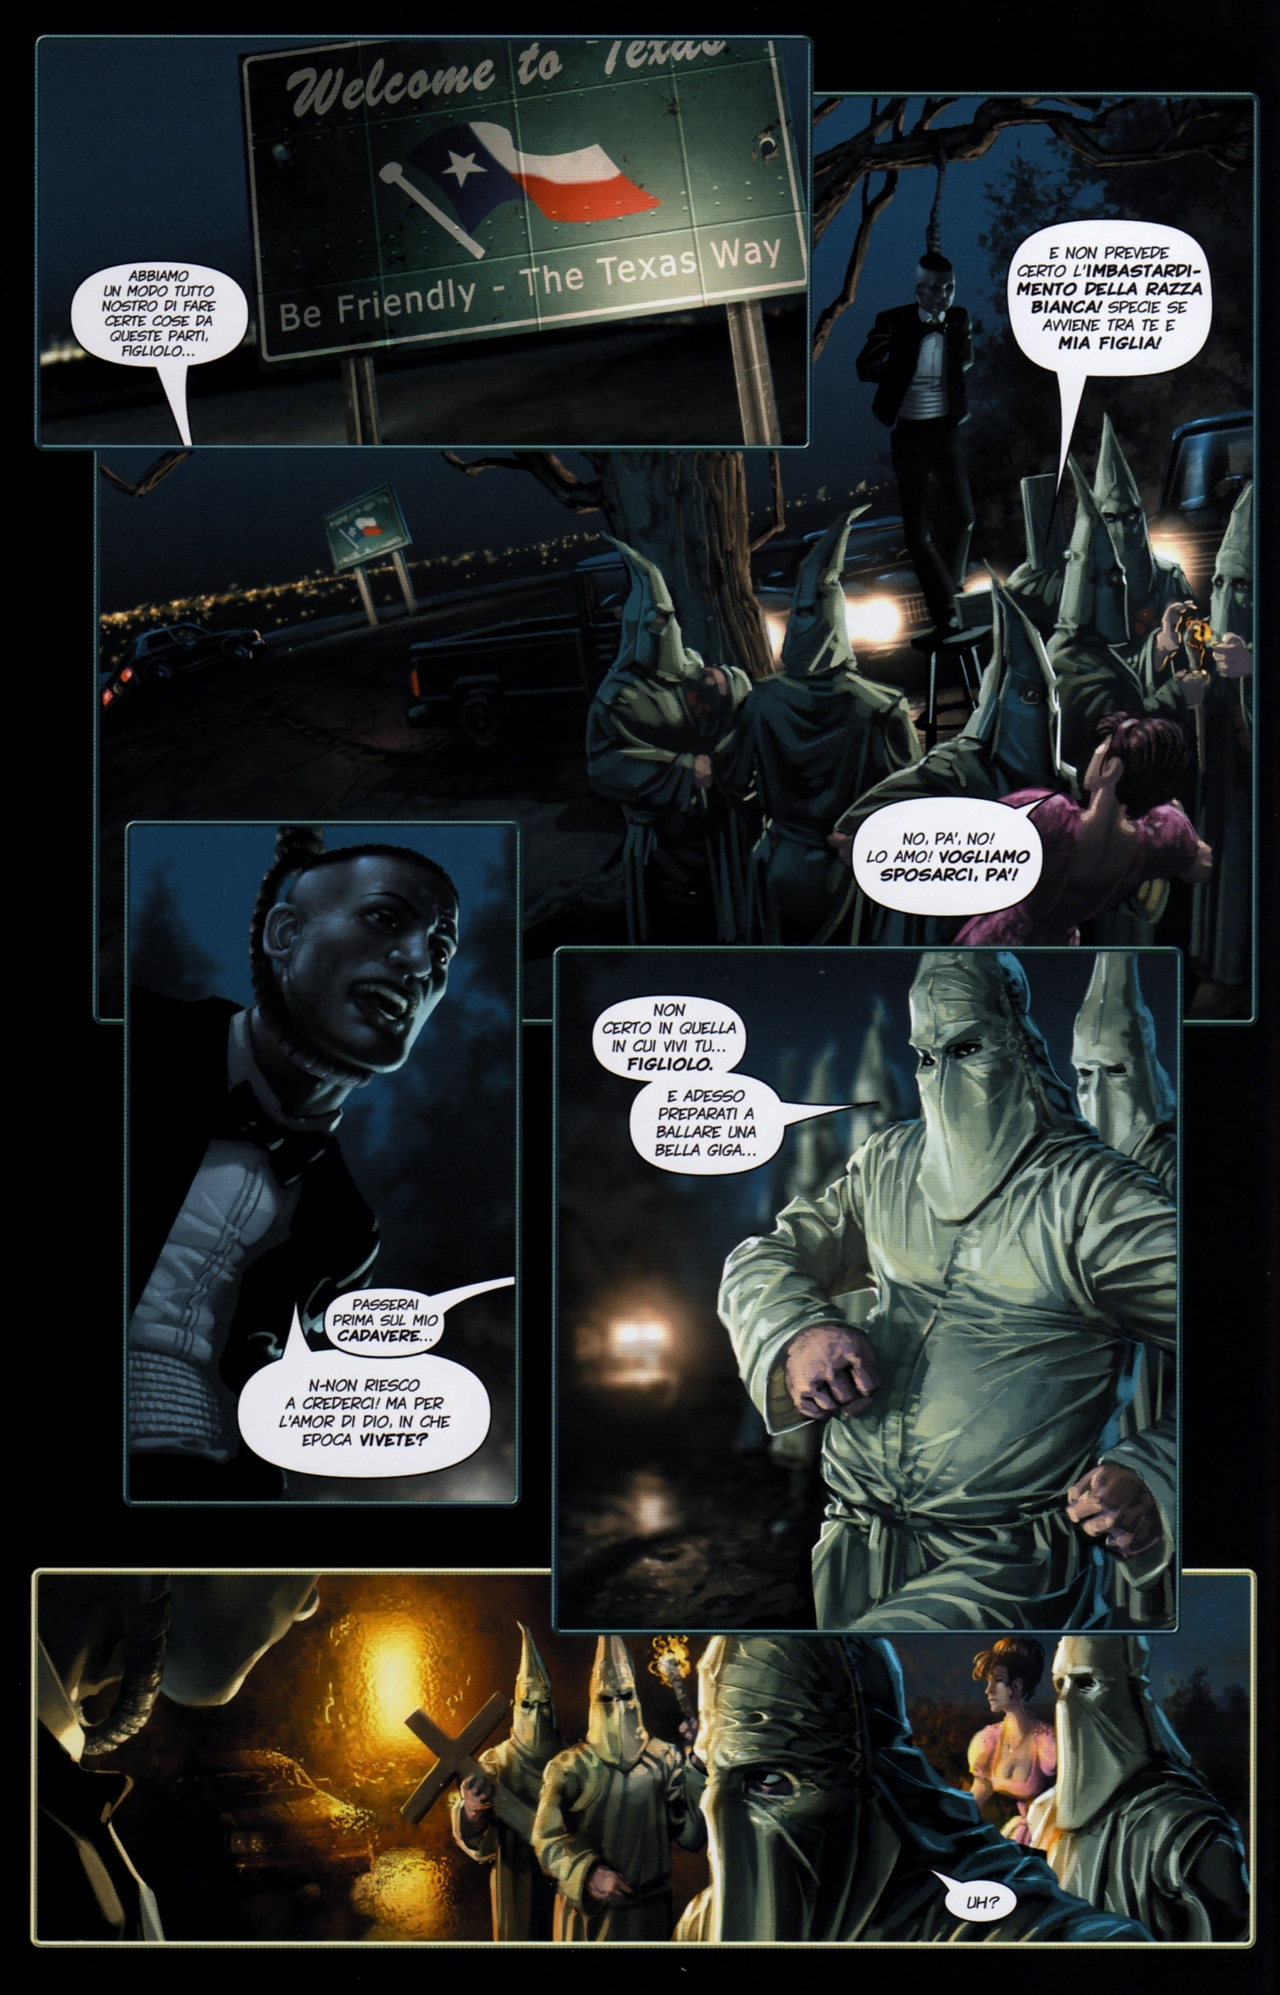Baloon: (1011, 212, 1212, 473), (591, 984, 863, 1176), (239, 1306, 493, 1473), (76, 254, 247, 449), (849, 794, 1053, 920), (326, 1282, 499, 1349), (927, 1861, 1020, 1921)
Vignetta: (93, 95, 1252, 1024), (29, 1570, 1257, 1946), (556, 950, 1181, 1630), (29, 36, 812, 449), (124, 819, 513, 1506)
